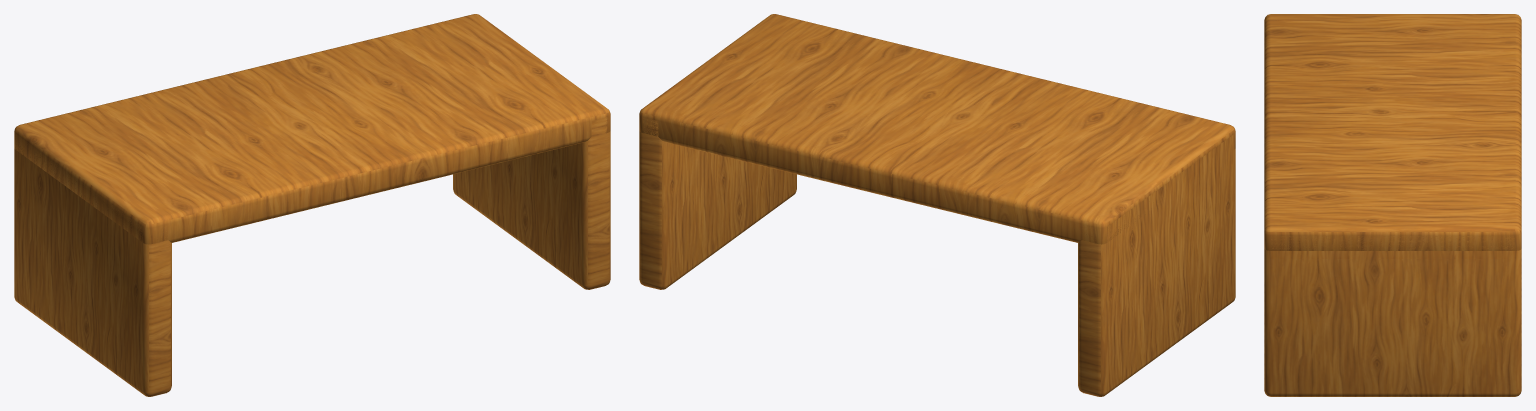
Rendered from waterfall-table.glb.
The picture shows the model from 3 angles, left to right: view 1: azimuth 30°, elevation 25°; view 2: azimuth 150°, elevation 25°; view 3: azimuth 270°, elevation 25°; orthographic projection. The views are drawn at different scales.
Parts seen in each view (by area): view 1: waterfall-table; view 2: waterfall-table; view 3: waterfall-table.
Part boxes in pixels (x1,y1,x2,y2): waterfall-table: [14, 14, 610, 396]; waterfall-table: [639, 14, 1235, 396]; waterfall-table: [1264, 14, 1521, 396].
Bounding box in the file's own units: 1.1 × 0.4 × 0.55.
Materials: 1 (1 with a texture image).
